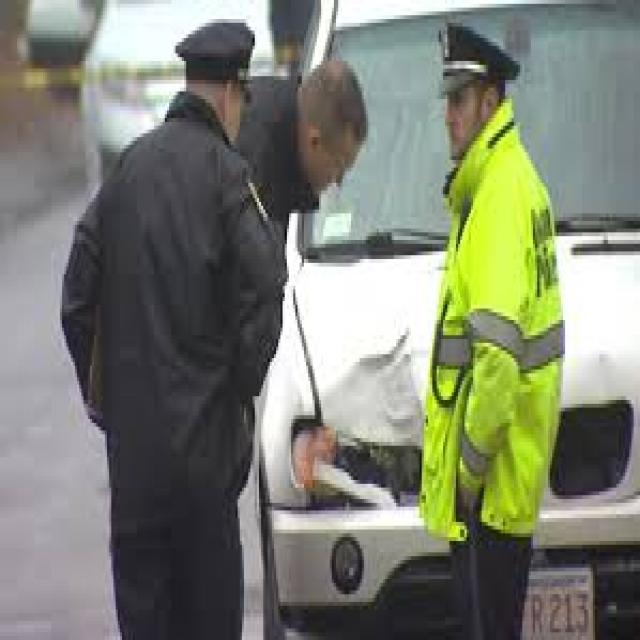minor: (303, 320, 431, 513)
